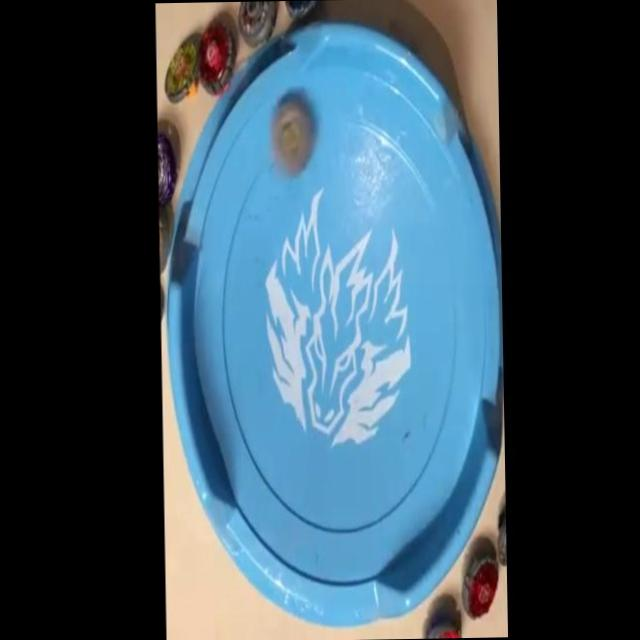Beyblade: (270, 100, 316, 174), (197, 22, 236, 95), (461, 550, 500, 622), (162, 42, 198, 104), (239, 0, 280, 46)
